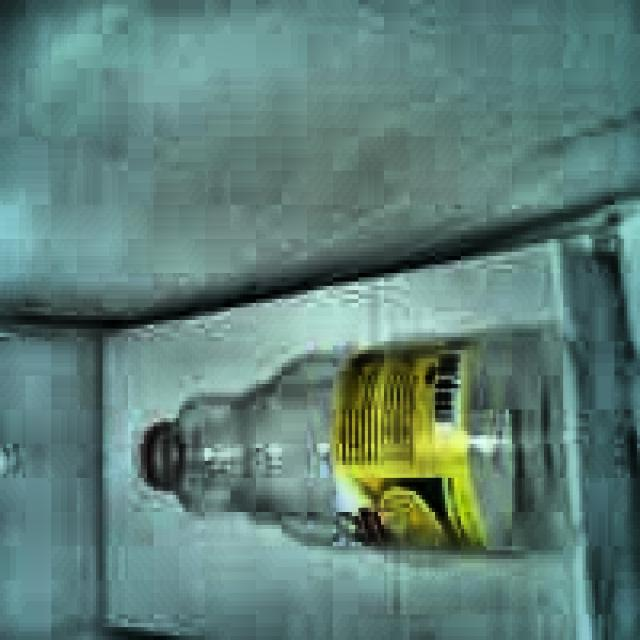Bottles: (114, 338, 600, 558)
